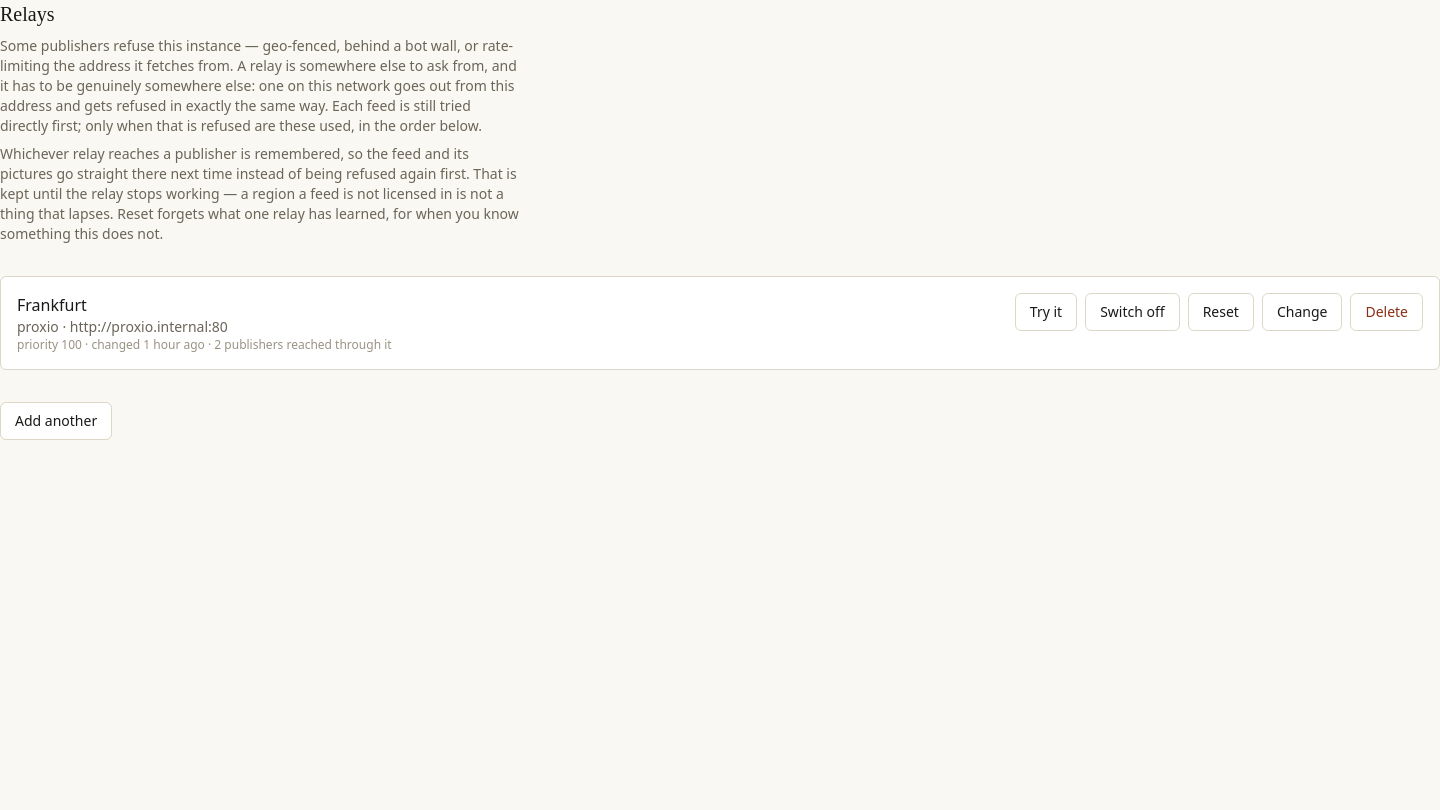
Test: ProxiesPage › says how much a delete would take with it
This screenshot has width=1440, height=810.
Click the button "Delete".
click(1387, 312)  # box [1350,293,1423,331]
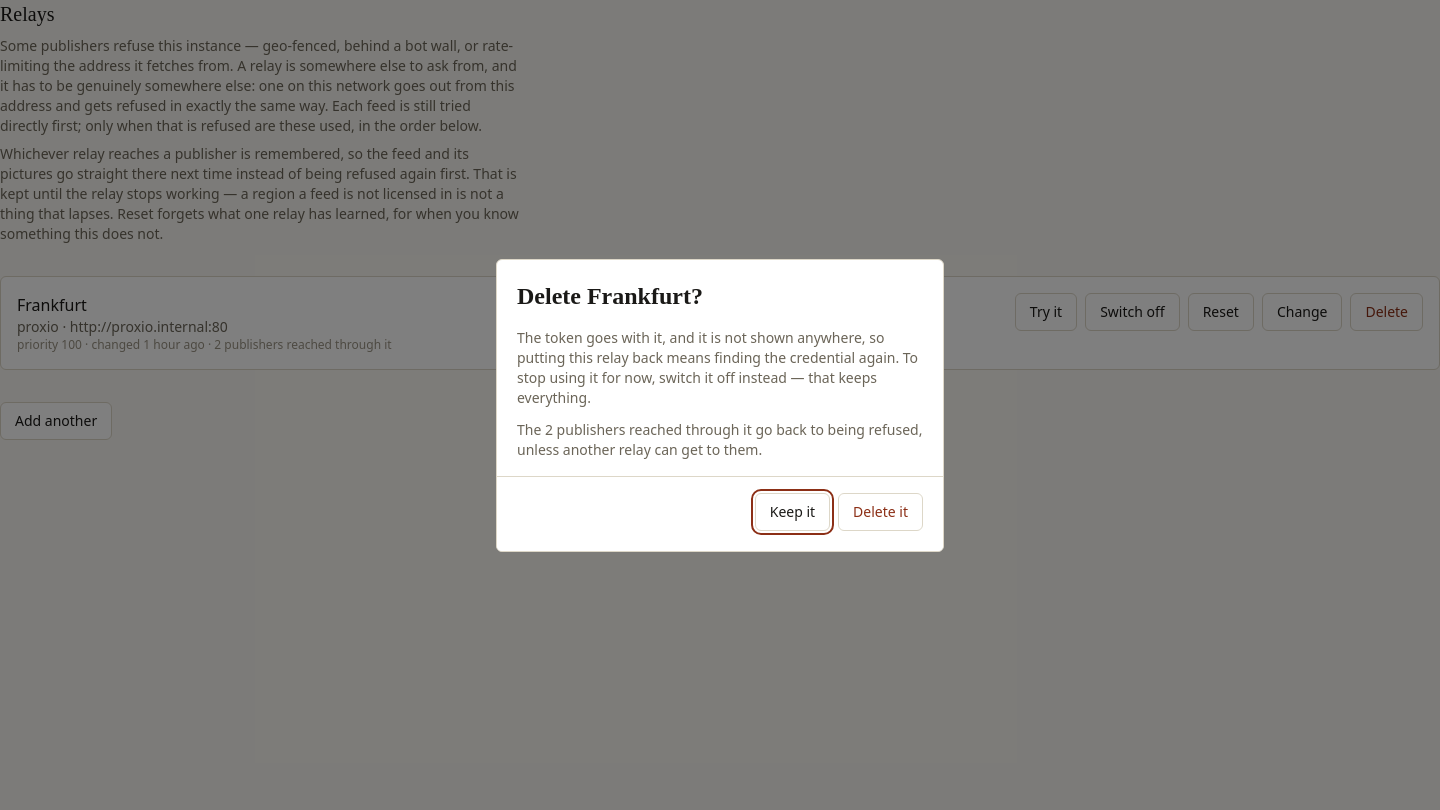
Expected: the text "2 publishers reached through it go back" is shown, [517,420,922,458]
